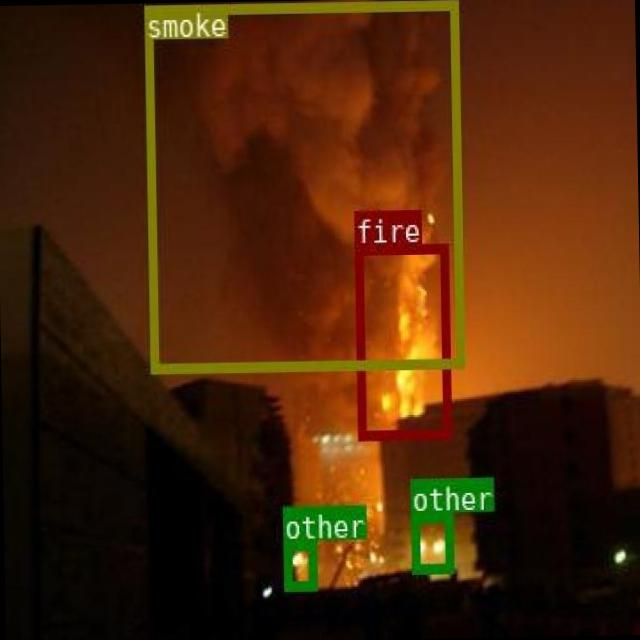fire: (354, 242, 449, 438)
smoke: (143, 0, 461, 371)
